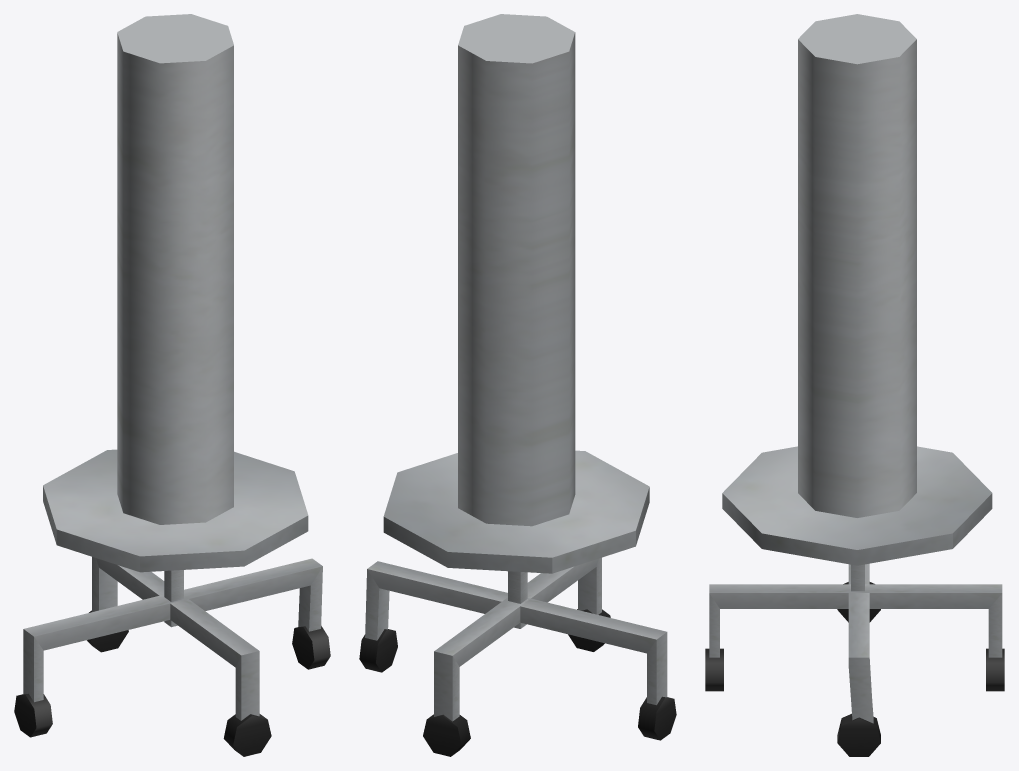
Rendered from RubbeRing_Stand_01.fbx.
The picture shows the model from 3 angles, left to right: view 1: azimuth 30°, elevation 25°; view 2: azimuth 150°, elevation 25°; view 3: azimuth 270°, elevation 25°; orthographic projection.
Visible parts, largest first — view 1: RubbeRing_Stand_01; view 2: RubbeRing_Stand_01; view 3: RubbeRing_Stand_01.
Boxes of the visible parts, x1=… form: RubbeRing_Stand_01: x1=14, y1=14, x2=330, y2=756; RubbeRing_Stand_01: x1=359, y1=14, x2=676, y2=756; RubbeRing_Stand_01: x1=705, y1=14, x2=1004, y2=756.
Bounding box in the file's own units: 0.1838 × 0.3936 × 0.1647.
